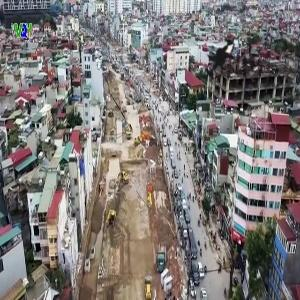drone: (189, 27, 261, 99)
